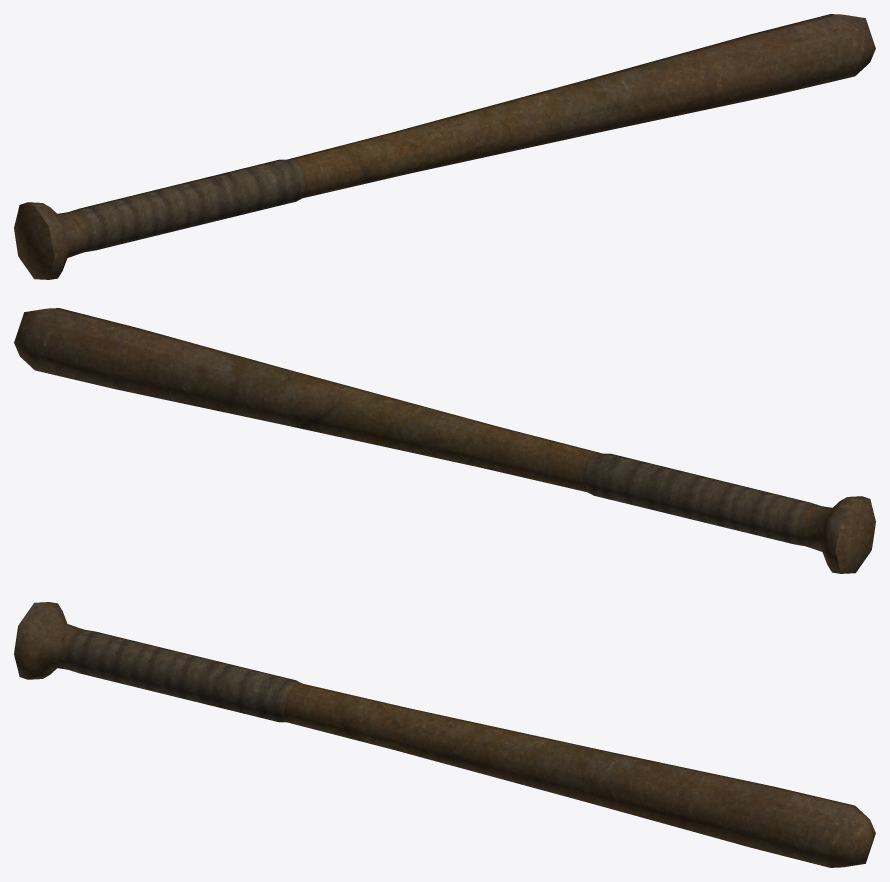
Rendered from baseball_bat_mx_1.glb.
The picture shows the model from 3 angles, top to bottom: view 1: azimuth 30°, elevation 25°; view 2: azimuth 150°, elevation 25°; view 3: azimuth 330°, elevation 25°; orthographic projection.
Parts seen in each view (by area): view 1: baseball_bat_mx_1; view 2: baseball_bat_mx_1; view 3: baseball_bat_mx_1.
Part boxes in pixels (x1,y1,x2,y2): baseball_bat_mx_1: [14, 14, 875, 279]; baseball_bat_mx_1: [14, 308, 875, 573]; baseball_bat_mx_1: [14, 602, 875, 867].
Size of the model in its own units: 1.24 by 0.1053 by 0.1053.
1 material, 1 textured.
